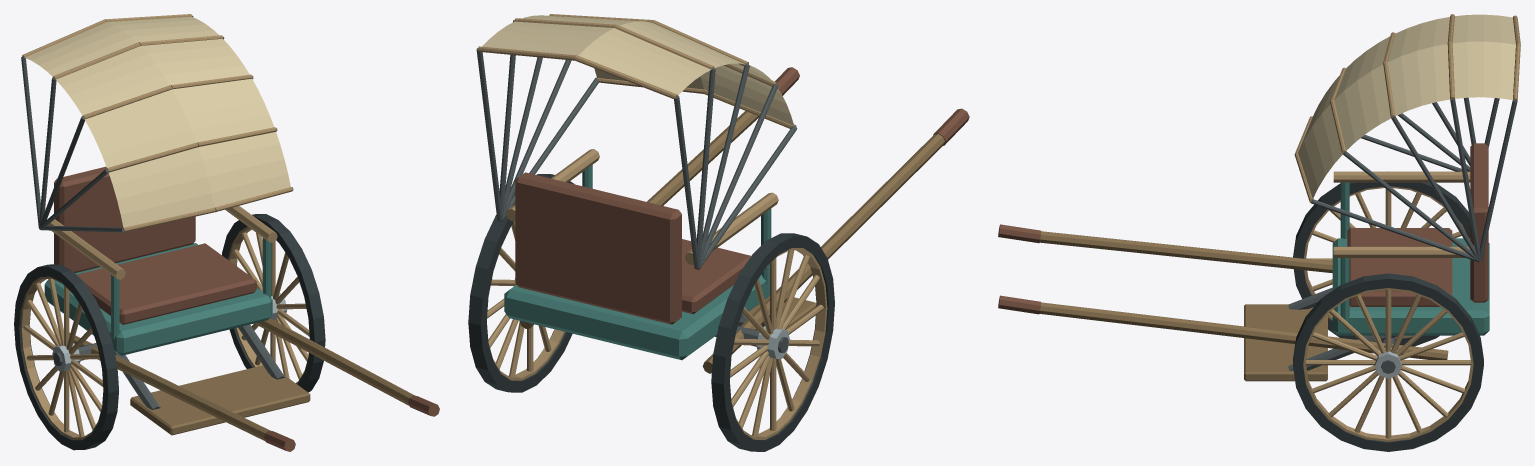
The model's file is rickshaw.glb.
3 views of the same model, side by side, from view 1: azimuth 30°, elevation 25°; view 2: azimuth 150°, elevation 25°; view 3: azimuth 270°, elevation 25° (orthographic). The views are drawn at different scales.
Visible parts, largest first — view 1: TransportRoot_mesh, CanopyFabric_mesh, RollingWheel_mesh, RollingWheel.001_mesh, CanopyRib.003_mesh, CanopyRib.004_mesh, CanopyRib.002_mesh, CanopyRib_mesh, CanopyRib.001_mesh; view 2: TransportRoot_mesh, RollingWheel_mesh, CanopyFabric_mesh, RollingWheel.001_mesh, CanopyRib.004_mesh, CanopyRib.003_mesh, CanopyRib.002_mesh, CanopyRib_mesh, CanopyRib.001_mesh; view 3: TransportRoot_mesh, CanopyFabric_mesh, RollingWheel.001_mesh, RollingWheel_mesh, CanopyRib_mesh, CanopyRib.001_mesh, CanopyRib.004_mesh, CanopyRib.003_mesh, CanopyRib.002_mesh.
Part boxes in pixels (x1=…): TransportRoot_mesh: x1=44, y1=166, x2=439, y2=451; CanopyFabric_mesh: x1=25, y1=17, x2=290, y2=227; RollingWheel_mesh: x1=14, y1=264, x2=118, y2=450; RollingWheel.001_mesh: x1=222, y1=214, x2=325, y2=392; CanopyRib.003_mesh: x1=39, y1=35, x2=224, y2=227; CanopyRib.004_mesh: x1=21, y1=14, x2=193, y2=227; CanopyRib.002_mesh: x1=39, y1=74, x2=253, y2=227; CanopyRib_mesh: x1=39, y1=187, x2=293, y2=232; CanopyRib.001_mesh: x1=39, y1=127, x2=277, y2=228; TransportRoot_mesh: x1=504, y1=67, x2=969, y2=373; RollingWheel_mesh: x1=711, y1=233, x2=834, y2=451; CanopyFabric_mesh: x1=482, y1=15, x2=793, y2=125; RollingWheel.001_mesh: x1=468, y1=174, x2=574, y2=392; CanopyRib.004_mesh: x1=476, y1=46, x2=699, y2=269; CanopyRib.003_mesh: x1=499, y1=18, x2=715, y2=267; CanopyRib.002_mesh: x1=502, y1=14, x2=749, y2=266; CanopyRib_mesh: x1=500, y1=77, x2=797, y2=269; CanopyRib.001_mesh: x1=503, y1=60, x2=778, y2=266; TransportRoot_mesh: x1=998, y1=143, x2=1489, y2=381; CanopyFabric_mesh: x1=1298, y1=14, x2=1515, y2=198; RollingWheel.001_mesh: x1=1293, y1=273, x2=1483, y2=451; RollingWheel_mesh: x1=1293, y1=182, x2=1470, y2=346; CanopyRib_mesh: x1=1294, y1=116, x2=1479, y2=262; CanopyRib.001_mesh: x1=1330, y1=67, x2=1478, y2=260; CanopyRib.004_mesh: x1=1479, y1=15, x2=1520, y2=261; CanopyRib.003_mesh: x1=1447, y1=14, x2=1479, y2=260; CanopyRib.002_mesh: x1=1383, y1=32, x2=1479, y2=260.
Bounding box in the file's own units: 1.16 × 1.73 × 2.3.
